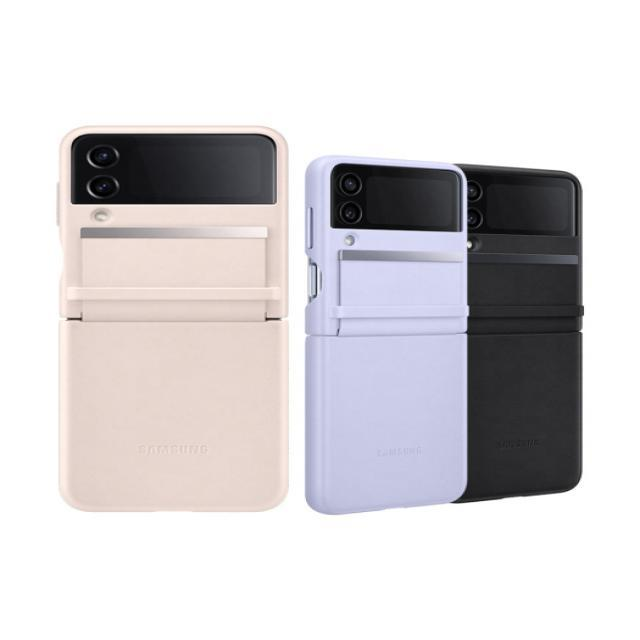phone: (54, 124, 290, 513)
